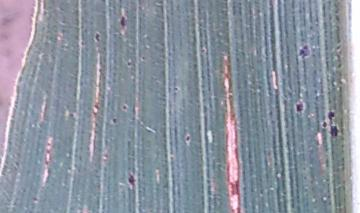tarspot: (297, 40, 313, 62), (118, 7, 129, 38), (125, 168, 138, 193), (328, 122, 342, 143), (292, 97, 307, 116), (325, 109, 338, 123), (91, 101, 101, 118), (93, 30, 102, 45), (184, 131, 192, 146), (320, 119, 330, 131), (31, 194, 40, 206), (65, 110, 77, 119), (78, 38, 87, 50), (110, 115, 119, 127), (102, 149, 110, 162), (121, 101, 129, 114), (199, 45, 208, 55), (126, 57, 133, 69), (173, 84, 180, 95), (140, 53, 147, 63), (169, 154, 176, 163)
